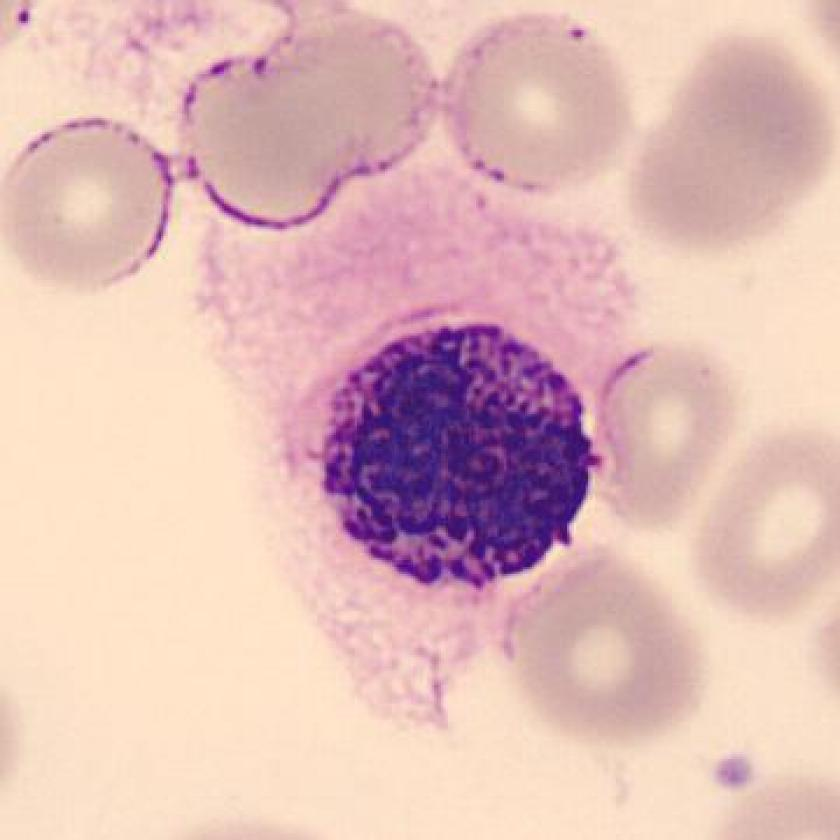basophil: (298, 290, 627, 619)
